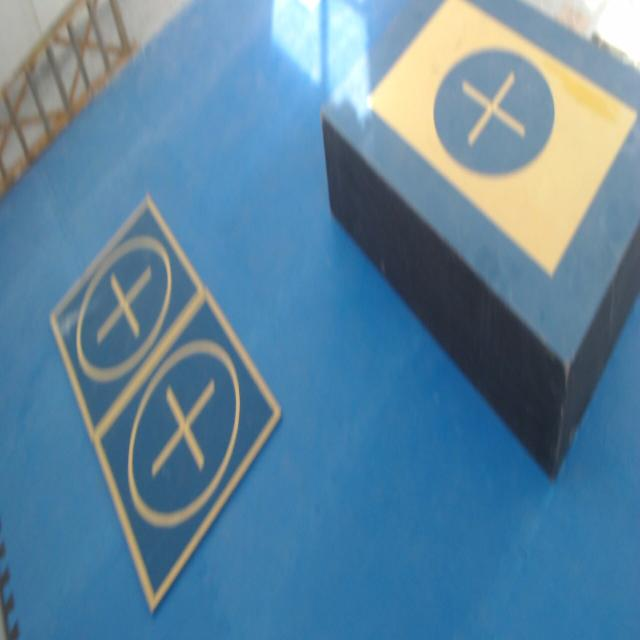base_inicio: (364, 0, 640, 276)
base_pouso: (92, 284, 283, 614), (49, 192, 205, 443)
